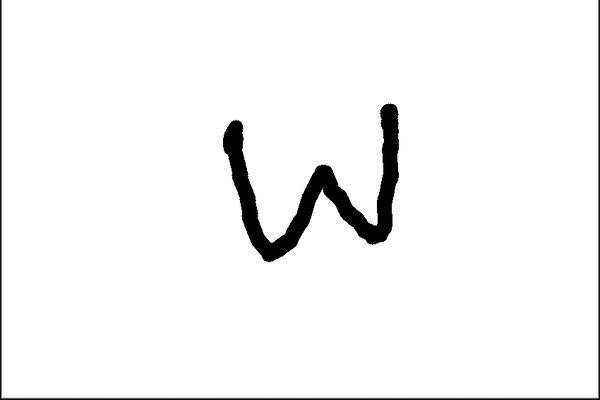w: (205, 95, 420, 270)
